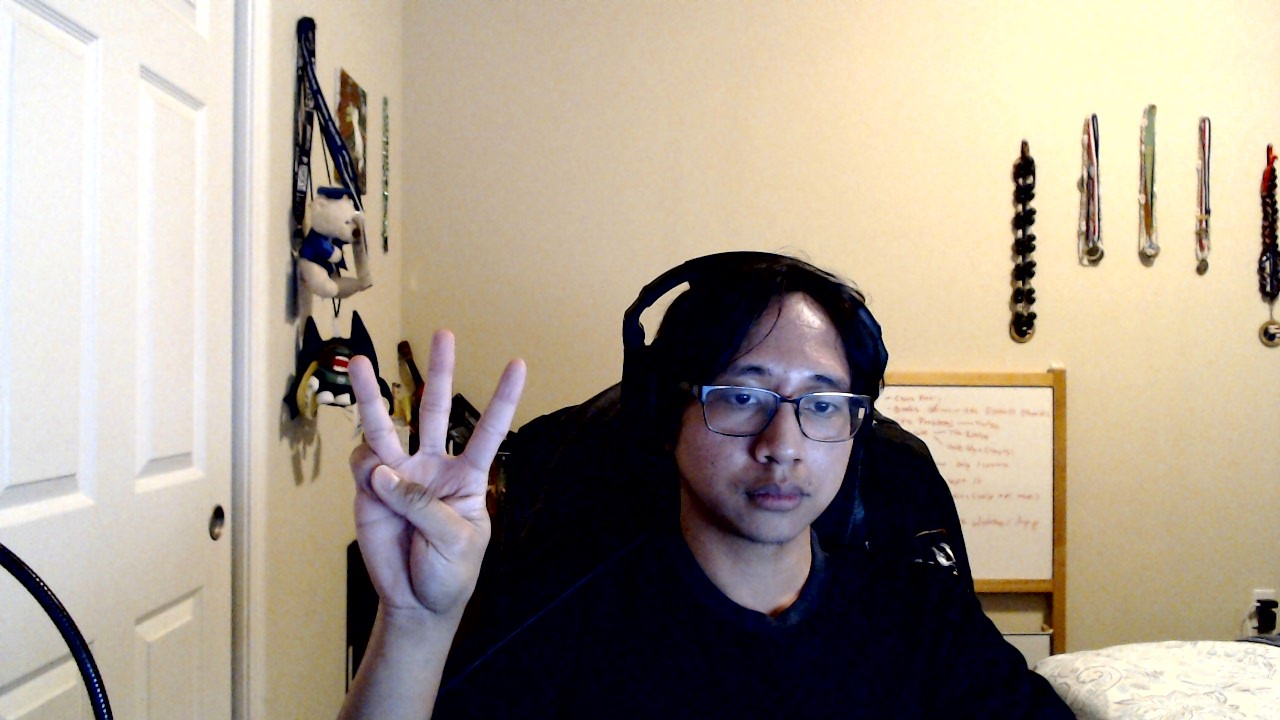w: (347, 326, 528, 617)
